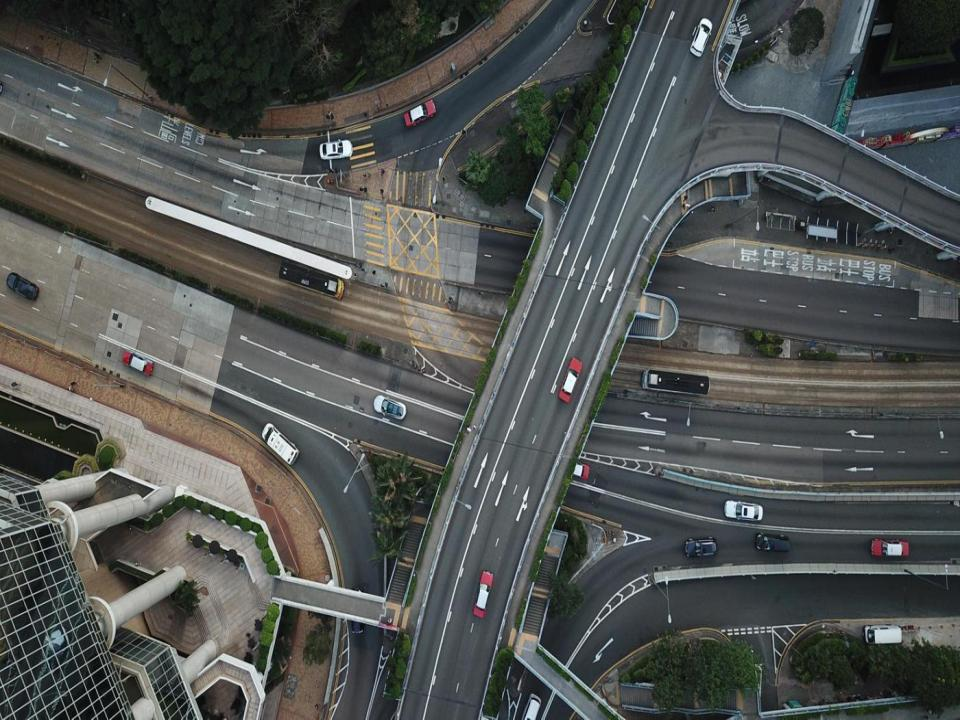bus: (278, 258, 350, 302), (642, 368, 711, 398)
car: (260, 421, 301, 464), (556, 357, 584, 408), (470, 568, 495, 618), (722, 498, 770, 522), (688, 18, 714, 61), (4, 274, 43, 302), (558, 452, 592, 483), (402, 97, 437, 127), (120, 348, 154, 377), (372, 394, 406, 422), (318, 138, 354, 161), (870, 538, 910, 557), (684, 538, 718, 560)
van: (861, 624, 907, 642), (756, 532, 789, 556)
